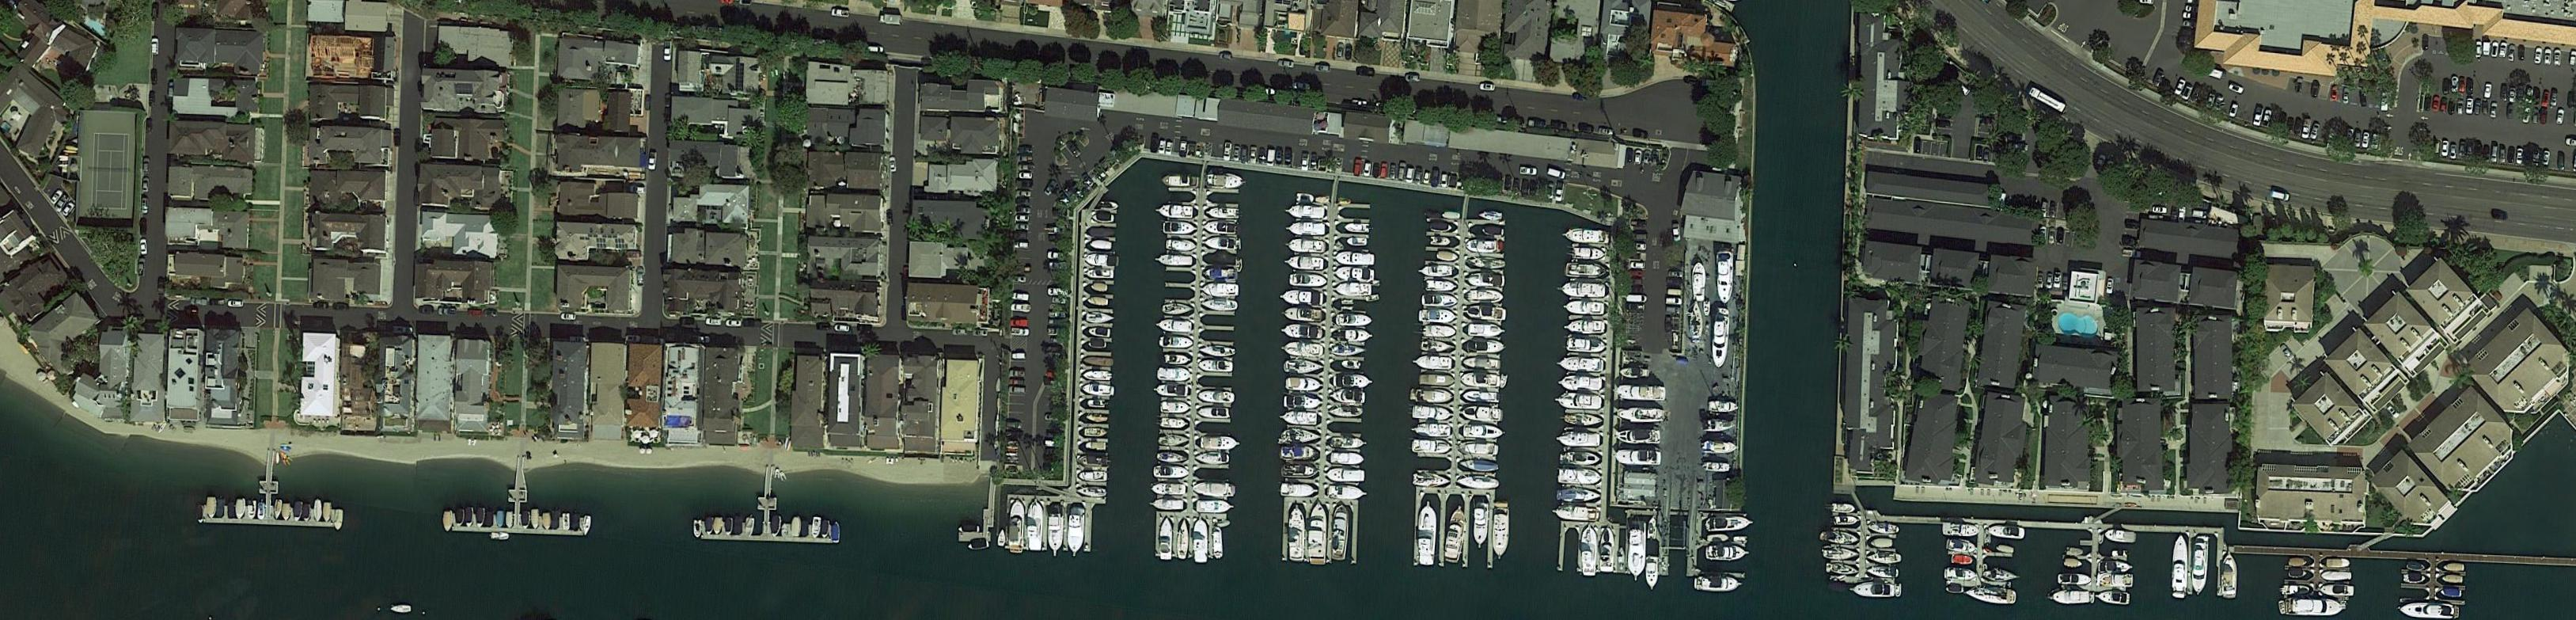harbor: (1147, 186, 1239, 558), (1411, 214, 1506, 569), (1280, 199, 1372, 562), (1559, 230, 1613, 526), (1071, 209, 1119, 493), (200, 460, 343, 528), (700, 479, 841, 544), (450, 477, 590, 538), (1556, 521, 1671, 579), (2060, 521, 2134, 607), (1827, 503, 1899, 589), (1943, 516, 2016, 595), (1004, 493, 1092, 553), (2284, 549, 2351, 610), (2400, 559, 2468, 605)
ship: (1442, 507, 1469, 564), (1418, 502, 1437, 566), (2190, 534, 2210, 597), (1309, 502, 1327, 566), (2170, 534, 2188, 597), (1712, 308, 1730, 370), (1331, 505, 1350, 561), (2285, 599, 2344, 617), (2400, 602, 2456, 620), (1965, 585, 2017, 604), (1046, 505, 1065, 558), (1580, 525, 1598, 576), (1068, 507, 1086, 558), (1556, 391, 1602, 411), (1617, 428, 1663, 447), (1009, 500, 1025, 554), (1290, 507, 1306, 561), (1628, 530, 1644, 582), (2221, 553, 2239, 600), (1552, 505, 1600, 523), (1615, 449, 1663, 467), (1493, 508, 1510, 559), (1617, 385, 1667, 401), (1717, 253, 1733, 304), (1472, 502, 1490, 548), (1556, 431, 1602, 449), (1559, 375, 1603, 393), (1562, 229, 1610, 245), (1618, 408, 1666, 424), (1705, 516, 1753, 533), (1281, 306, 1324, 324), (1408, 388, 1454, 405), (1278, 289, 1324, 306), (1705, 546, 1751, 562), (1193, 518, 1209, 564), (1028, 500, 1043, 551), (1564, 299, 1605, 317), (1286, 238, 1327, 257), (1462, 405, 1503, 423), (1562, 283, 1607, 299), (1559, 357, 1603, 373), (1462, 424, 1506, 441), (1557, 469, 1602, 485), (1600, 528, 1617, 572), (1694, 577, 1743, 592), (1850, 582, 1894, 599), (1207, 173, 1247, 191), (1281, 342, 1324, 359), (1193, 482, 1235, 498), (1280, 428, 1322, 444), (1556, 488, 1602, 503), (1285, 359, 1326, 375), (1334, 373, 1375, 390), (1280, 324, 1324, 339), (1456, 475, 1500, 490), (1689, 299, 1704, 344), (1413, 355, 1452, 372), (1334, 266, 1373, 283), (1286, 204, 1326, 220), (1459, 441, 1498, 457), (1327, 485, 1367, 502), (1155, 204, 1194, 220), (1562, 321, 1605, 335), (1283, 257, 1326, 271), (1559, 451, 1602, 465), (1413, 472, 1451, 488), (1465, 306, 1506, 321), (1566, 263, 1607, 278), (1460, 373, 1502, 388), (1334, 329, 1375, 344), (1336, 252, 1377, 266), (1459, 459, 1500, 474), (1411, 439, 1452, 454), (1176, 520, 1191, 561), (1283, 395, 1324, 409), (1331, 451, 1367, 467), (1281, 409, 1318, 426), (1567, 339, 1607, 354), (1413, 406, 1452, 421), (1334, 281, 1373, 296), (1290, 273, 1329, 288), (1564, 413, 1603, 428), (2052, 590, 2091, 605), (1692, 261, 1707, 301), (2096, 589, 2131, 605), (1160, 518, 1173, 561), (1467, 273, 1505, 288), (1413, 423, 1451, 437), (1286, 377, 1324, 391), (1327, 469, 1365, 484), (1281, 464, 1319, 479), (1161, 174, 1199, 189), (1198, 390, 1235, 405), (1822, 546, 1860, 561), (1201, 437, 1242, 451), (1989, 525, 2026, 539), (1153, 465, 1189, 480), (1329, 390, 1365, 405), (1203, 283, 1239, 298), (1157, 319, 1193, 334), (1825, 531, 1861, 546), (1462, 357, 1502, 370), (1467, 340, 1506, 354), (1419, 309, 1459, 322), (1981, 569, 2021, 582), (1196, 500, 1235, 513), (1280, 484, 1319, 497), (1280, 447, 1319, 460), (1204, 235, 1235, 252), (1462, 390, 1497, 405), (1163, 220, 1198, 235), (1469, 324, 1506, 337), (1288, 222, 1326, 235), (1423, 339, 1456, 354), (1465, 238, 1498, 253), (2104, 530, 2137, 544), (1083, 383, 1115, 398), (1157, 451, 1189, 465), (1158, 367, 1191, 382), (1423, 293, 1459, 306), (1469, 257, 1505, 270), (1702, 441, 1738, 454), (1194, 452, 1230, 465), (1084, 255, 1120, 268), (1203, 299, 1239, 312), (1705, 418, 1736, 433), (1204, 220, 1235, 235), (1469, 289, 1503, 303), (1331, 344, 1365, 357), (2100, 574, 2134, 587), (2100, 561, 2134, 574), (1646, 556, 1659, 590), (1329, 406, 1364, 419), (1948, 539, 1978, 554), (1166, 238, 1196, 253), (1336, 314, 1373, 326), (1943, 525, 1981, 536), (1331, 437, 1368, 449), (1155, 255, 1193, 266), (1424, 326, 1457, 339), (1945, 567, 1978, 581), (1158, 434, 1191, 447), (1157, 385, 1189, 398), (1160, 335, 1193, 349), (1828, 562, 1861, 576), (2320, 585, 2356, 597), (2057, 574, 2093, 585), (1866, 553, 1902, 564), (1152, 484, 1188, 495), (1203, 268, 1239, 280), (1198, 360, 1234, 372), (1426, 280, 1457, 293), (1163, 303, 1194, 316), (1421, 375, 1456, 386), (1419, 266, 1454, 278), (1866, 566, 1901, 577), (1206, 207, 1240, 219), (1201, 347, 1235, 359), (1620, 367, 1649, 380), (1710, 401, 1740, 414), (1161, 401, 1191, 414), (1572, 248, 1605, 260), (1868, 523, 1901, 534), (1152, 498, 1184, 510), (1212, 526, 1224, 559), (1198, 406, 1230, 418), (1079, 470, 1107, 484), (1083, 357, 1114, 368), (1160, 418, 1189, 429), (1086, 312, 1115, 324), (1079, 456, 1107, 467), (1076, 487, 1107, 497), (1084, 370, 1111, 382), (968, 539, 991, 553), (1479, 211, 1503, 222), (1832, 503, 1856, 515), (442, 511, 455, 533), (2284, 585, 2311, 595), (1702, 462, 1730, 472), (1086, 270, 1114, 280), (1088, 227, 1115, 237), (1437, 250, 1460, 261), (1429, 222, 1452, 234), (1088, 327, 1111, 339), (1344, 224, 1370, 234), (2321, 572, 2353, 581), (582, 515, 593, 536), (770, 515, 782, 536), (389, 604, 411, 615), (790, 515, 802, 536), (1648, 516, 1658, 541), (1835, 516, 1860, 526), (1482, 227, 1505, 237), (2063, 558, 2083, 569), (1952, 556, 1975, 566), (2403, 574, 2426, 584), (744, 516, 756, 536), (812, 516, 821, 539), (958, 525, 981, 534), (1089, 240, 1112, 250), (1707, 533, 1730, 543), (1945, 584, 1965, 595), (1165, 355, 1191, 363), (1429, 237, 1451, 247), (1345, 237, 1367, 247), (1871, 538, 1893, 548), (2441, 589, 2463, 599), (831, 521, 841, 543), (207, 497, 217, 518), (237, 498, 246, 520), (1092, 214, 1114, 224), (1996, 544, 2014, 556), (2326, 559, 2351, 567), (2407, 562, 2426, 572), (476, 508, 486, 528), (1084, 442, 1107, 451), (1084, 429, 1107, 437), (314, 500, 322, 523), (2277, 599, 2288, 615), (521, 511, 531, 530), (542, 513, 552, 531), (997, 530, 1007, 548), (248, 502, 258, 520), (281, 503, 291, 521), (2065, 546, 2083, 556), (1296, 192, 1314, 202), (2443, 564, 2464, 572), (2443, 576, 2464, 584), (467, 507, 475, 528), (274, 498, 283, 520), (335, 510, 343, 531), (1088, 298, 1109, 306), (1733, 534, 1748, 546), (2288, 559, 2308, 567), (1342, 362, 1362, 370), (693, 520, 701, 539), (715, 516, 723, 536), (491, 533, 511, 541), (294, 502, 302, 521), (324, 503, 332, 523), (1091, 283, 1107, 293), (1618, 546, 1625, 571), (2109, 549, 2129, 558), (706, 516, 715, 534), (724, 518, 733, 536), (821, 520, 830, 538), (457, 510, 465, 528), (1102, 202, 1120, 211), (532, 510, 539, 531), (506, 513, 514, 530), (496, 511, 504, 528), (302, 505, 310, 521), (800, 520, 808, 536), (2288, 571, 2308, 577), (1088, 342, 1107, 349), (563, 513, 570, 531), (1088, 401, 1106, 408), (258, 503, 264, 520)
